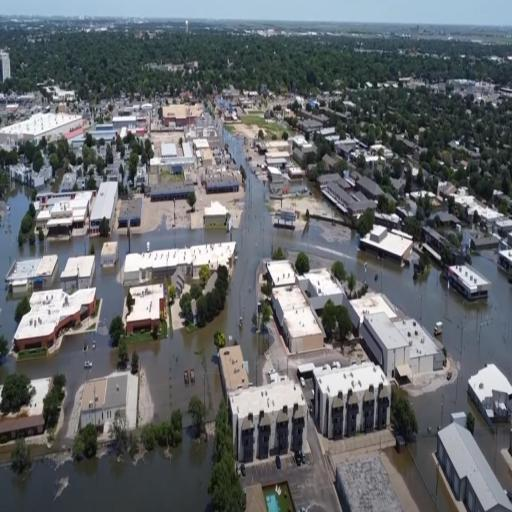flood: (0, 164, 512, 512), (0, 233, 128, 444), (0, 181, 91, 350), (131, 216, 202, 252), (219, 125, 247, 170), (285, 177, 323, 199), (202, 229, 231, 242)
house: (229, 381, 311, 486), (434, 409, 512, 512), (314, 360, 392, 430), (80, 361, 142, 433), (0, 372, 59, 444), (271, 287, 330, 353), (362, 304, 414, 378), (466, 360, 512, 428), (358, 220, 414, 274), (35, 182, 89, 235), (128, 283, 168, 337), (3, 253, 59, 289), (320, 174, 362, 221), (447, 263, 492, 305), (89, 182, 119, 240), (150, 175, 195, 208), (62, 254, 96, 285), (203, 202, 231, 235), (160, 102, 197, 126), (205, 173, 240, 198), (118, 195, 142, 229), (274, 209, 298, 240), (101, 238, 120, 270), (0, 43, 12, 87), (498, 242, 512, 276)
